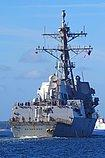MIL_Ship: (7, 14, 98, 138)
